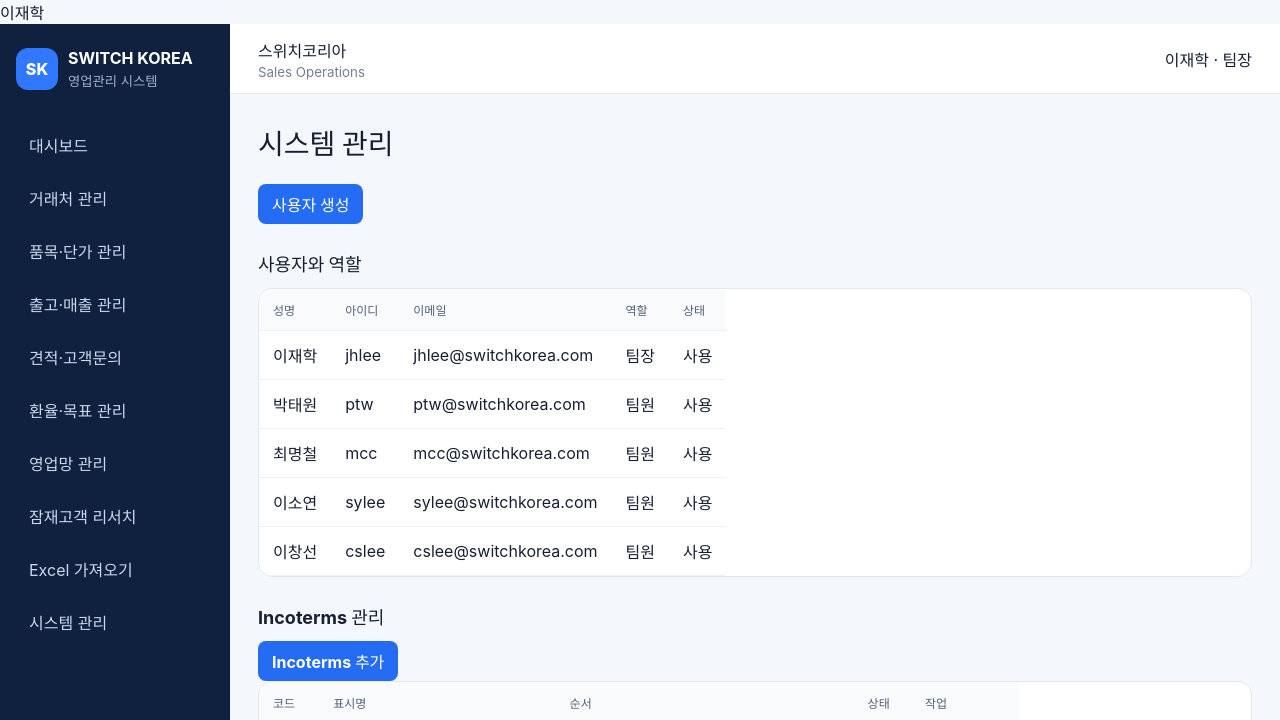
Test case: quotation and inquiry workspace › exposes Incoterms management to the manager
The width and height of the screenshot is (1280, 720).
Expected: the heading "Incoterms 관리" is shown, [258, 607, 384, 628]
Click the button "Incoterms 추가" at (328, 661), box [258, 641, 398, 681]
(page scrolled)
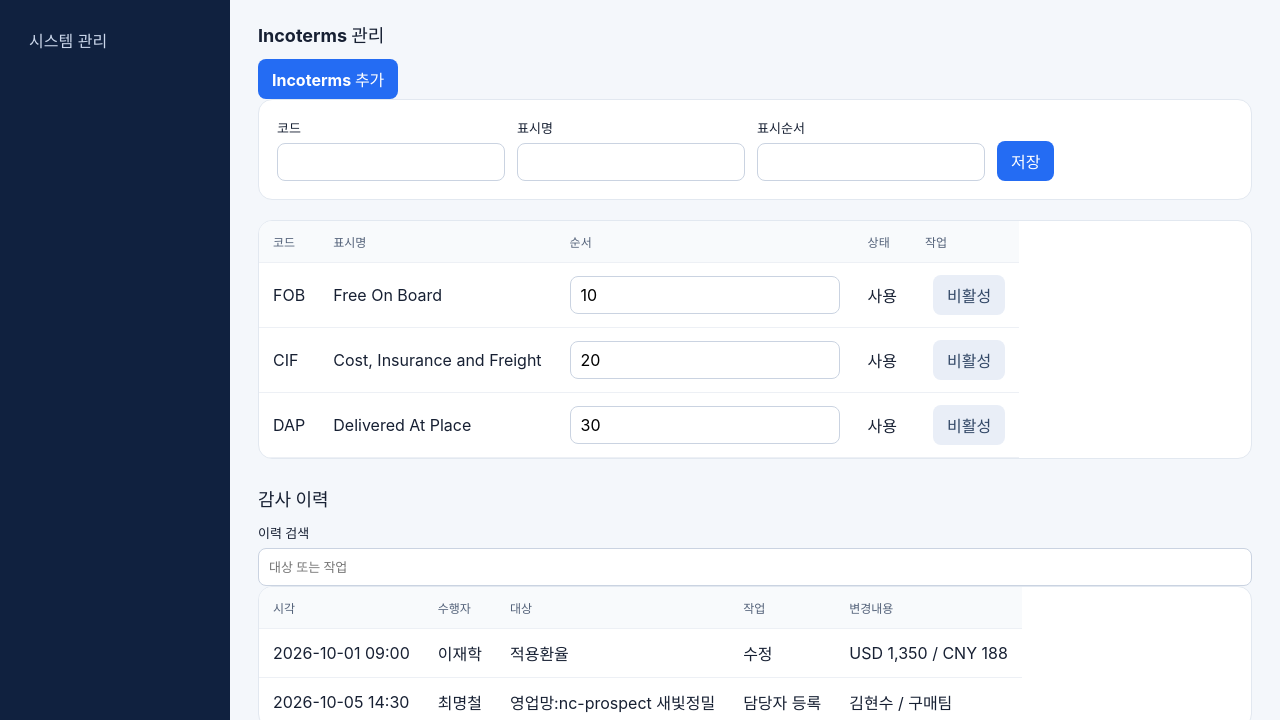
Expected: the number field named "CIF 표시순서" is shown, [570, 341, 840, 379]
Expected: the form named "Incoterms 추가" is shown, [258, 99, 1252, 200]
